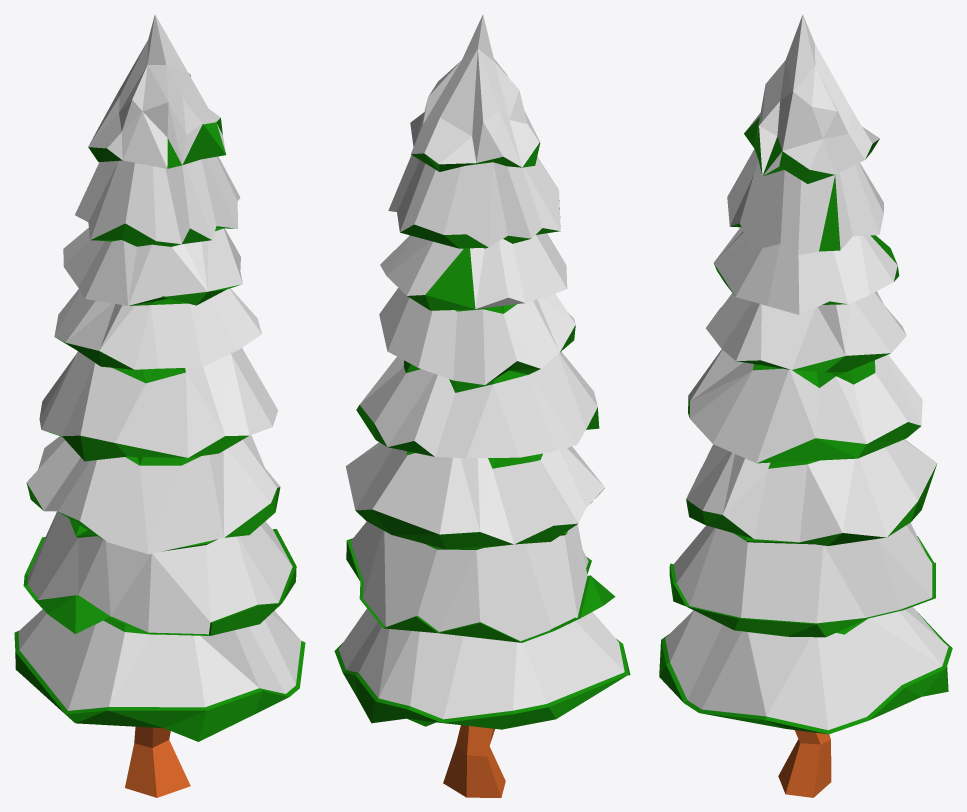
Rendered from Tree_1.fbx.
3 views of the same model, side by side, from view 1: azimuth 30°, elevation 25°; view 2: azimuth 150°, elevation 25°; view 3: azimuth 270°, elevation 25° (orthographic).
Visible parts, largest first — view 1: _2_tree; view 2: _2_tree; view 3: _2_tree.
Part boxes in pixels (left/top/right/bottom): _2_tree: left=14, top=14, right=305, bottom=797; _2_tree: left=334, top=14, right=630, bottom=797; _2_tree: left=659, top=14, right=952, bottom=797.
Size of the model in its own units: 0.8524 by 2.49 by 0.8631.
